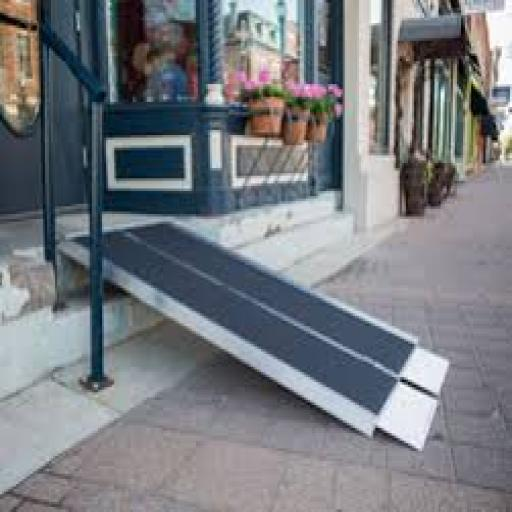ramp: (54, 218, 450, 450)
